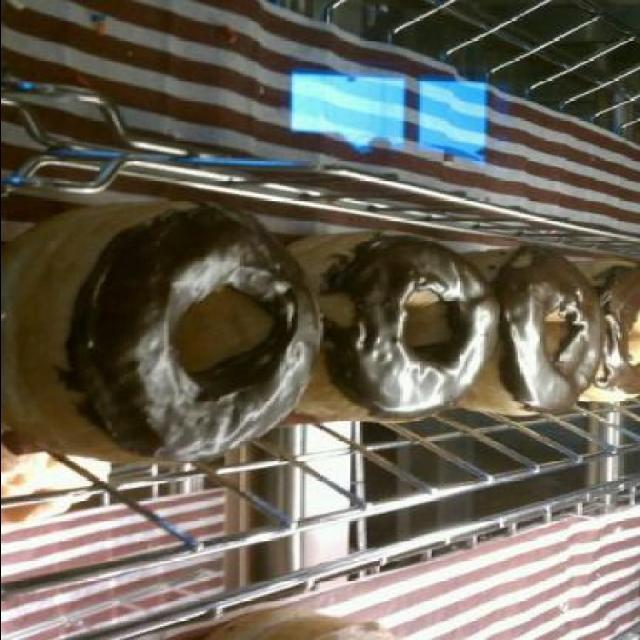Donuts: (1, 194, 638, 474)
